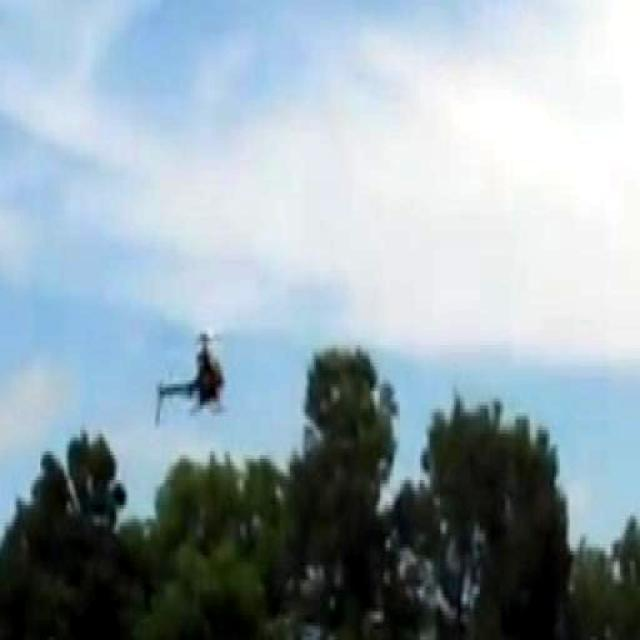drone: (150, 320, 232, 428)
